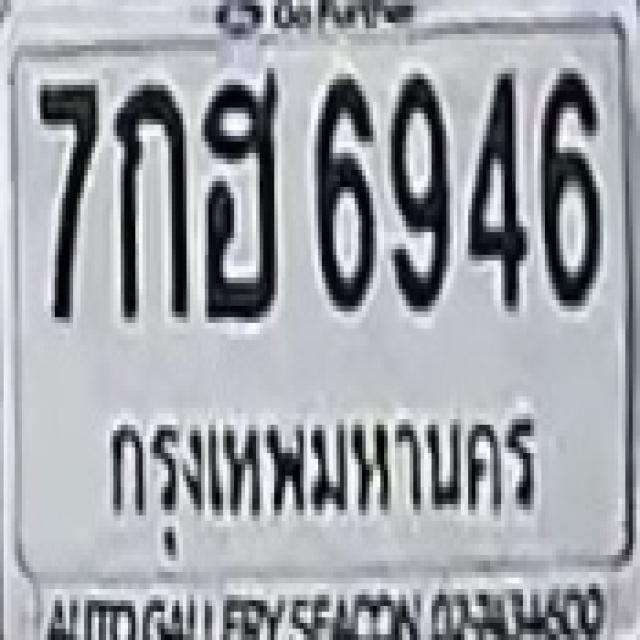4: (464, 62, 523, 306)
6: (538, 65, 596, 303), (313, 74, 371, 306)
7: (37, 79, 95, 317)
9: (388, 68, 446, 306)
A01: (114, 79, 186, 317)
A44: (199, 68, 276, 317)
BKK: (93, 407, 541, 560)
